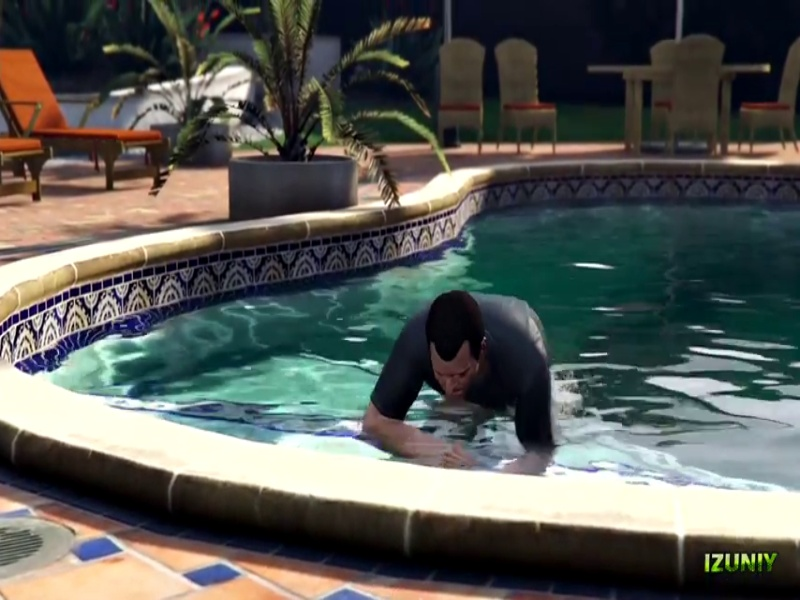human: (361, 280, 569, 468)
